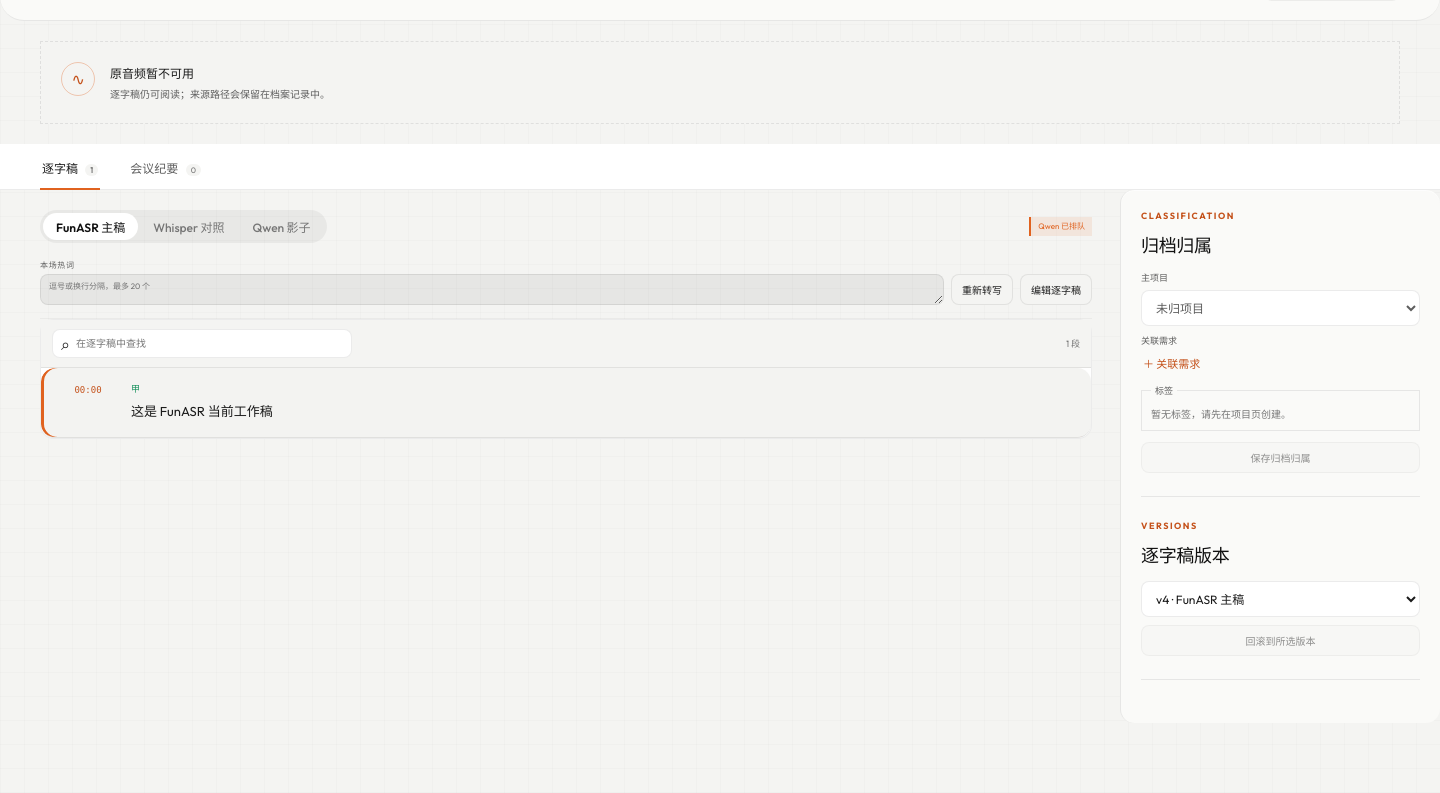
Scenario: MeetingDetailPage Whisper comparison › applies a pending Qwen snapshot after a gold save succeeds
(page scrolled)
Click the button "Qwen 影子". click: (282, 226)
box: [239, 213, 324, 240]
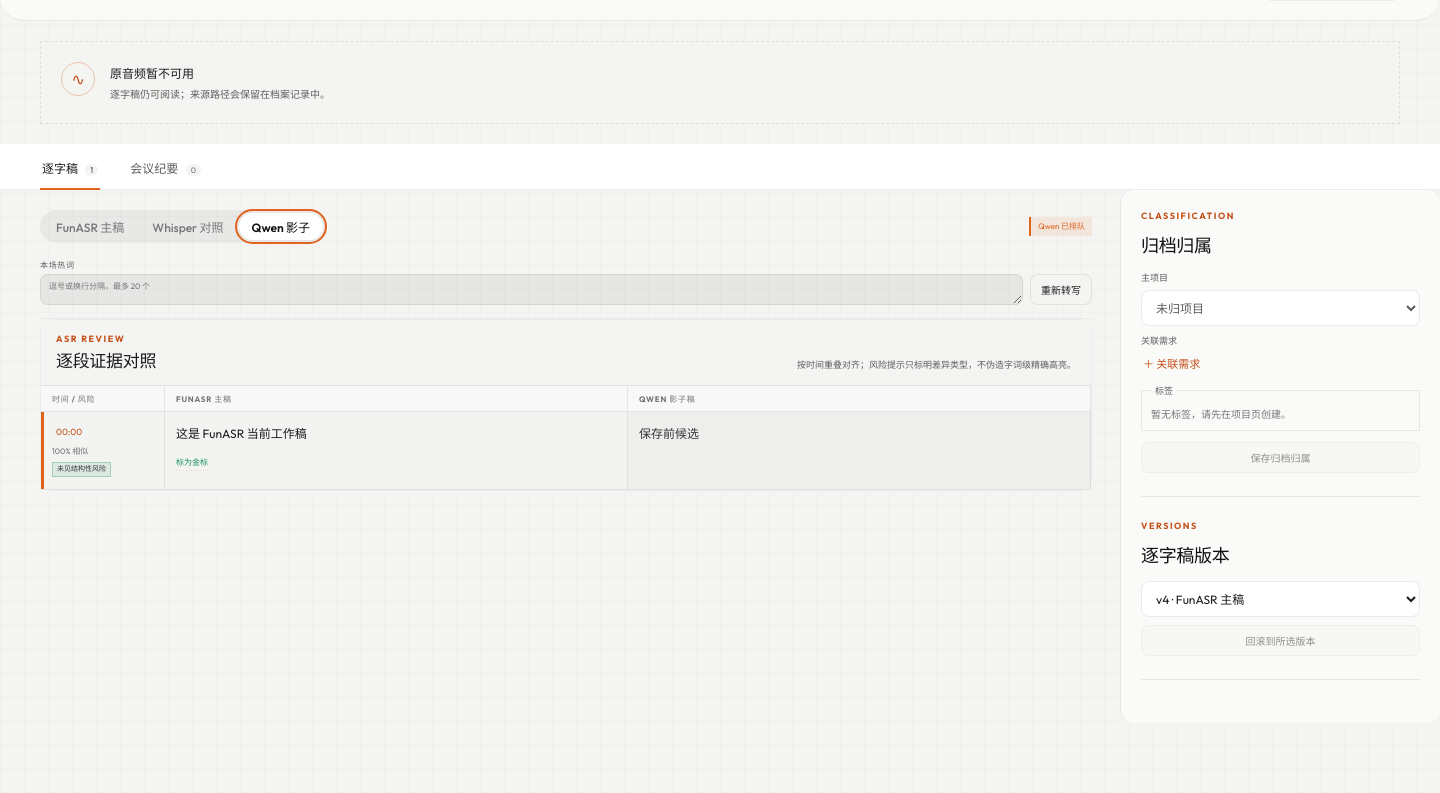
Expected: the text "保存前候选" is shown, [639, 426, 699, 441]
Click the button "标为金标". click: (192, 462)
box: [176, 453, 208, 471]
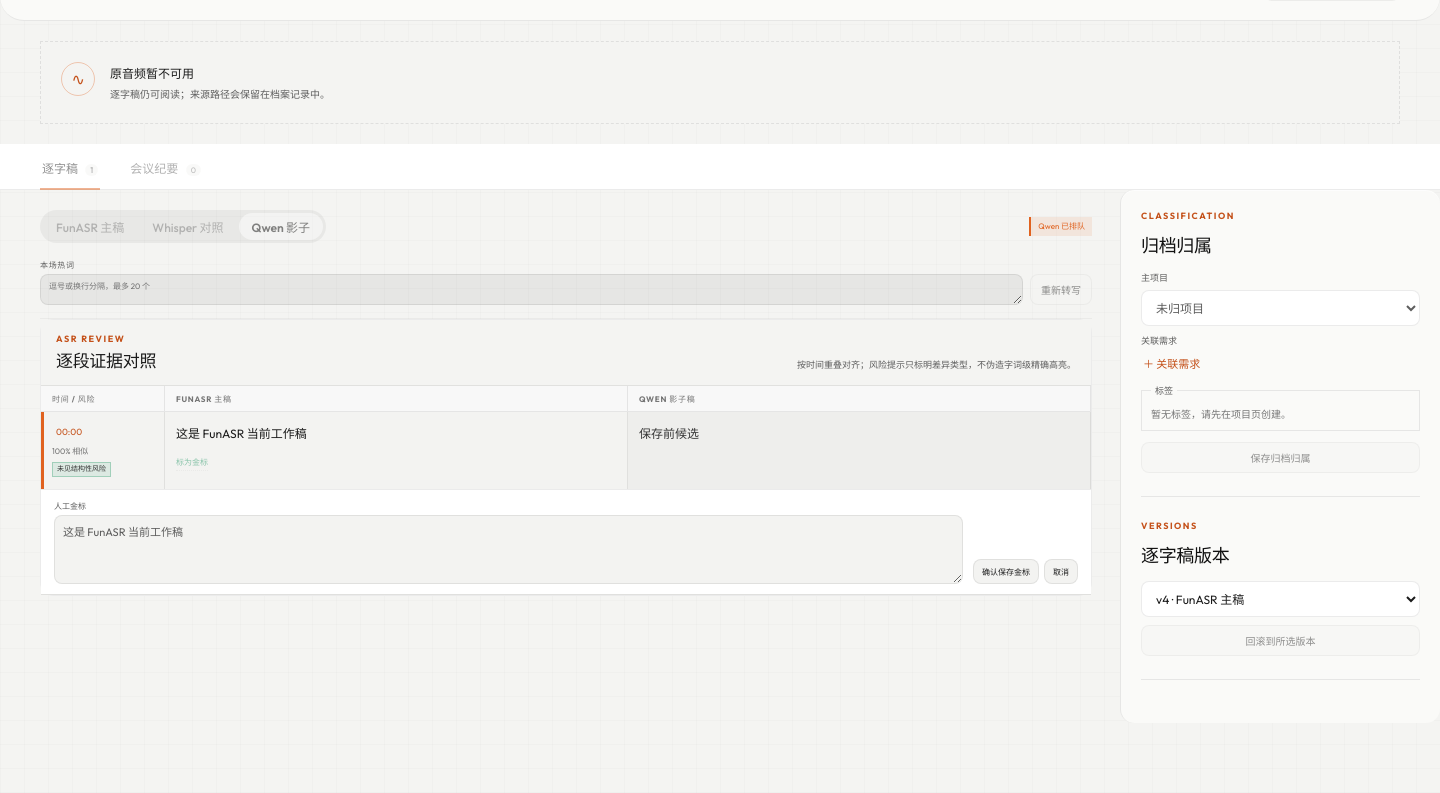
Replace the text in the text box named "seg-main 金标文本" with "已保存金标". click: (508, 549)
box: [54, 515, 963, 584]
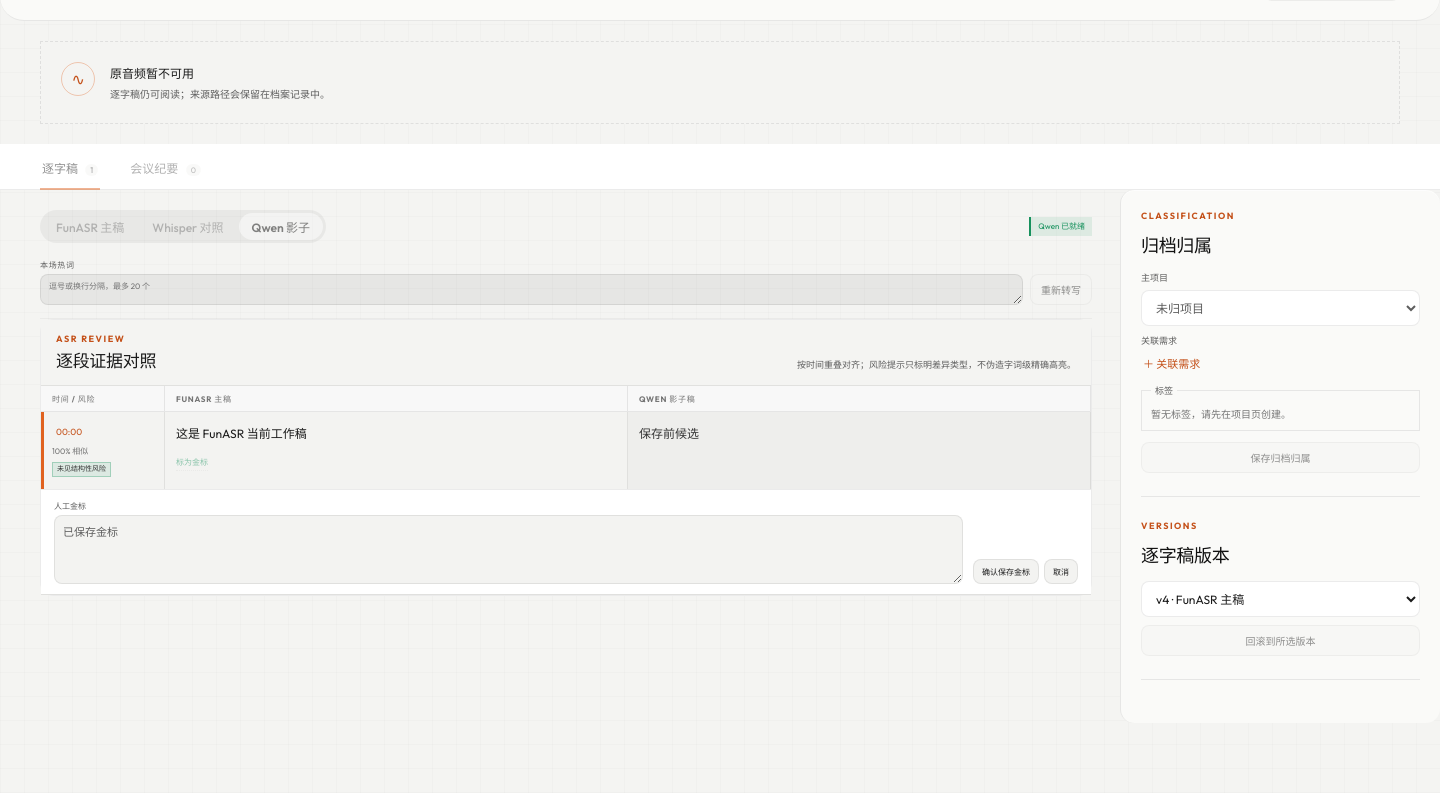
Expected: the text "保存前候选" is shown, [639, 426, 699, 441]
Click the button "确认保存金标". click: (1006, 571)
box: [973, 559, 1039, 584]
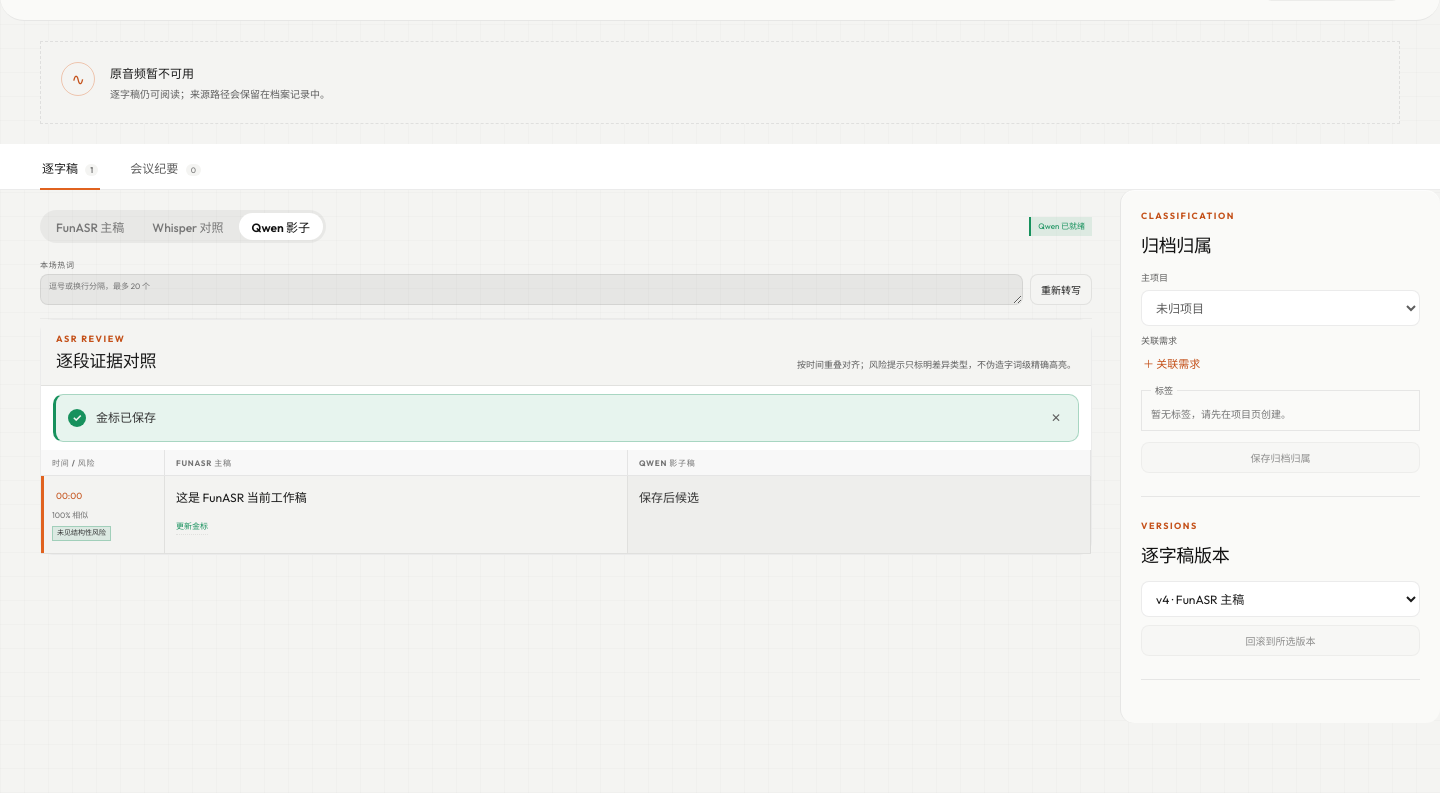
Expected: the text "保存后候选" is shown, [639, 490, 699, 505]
